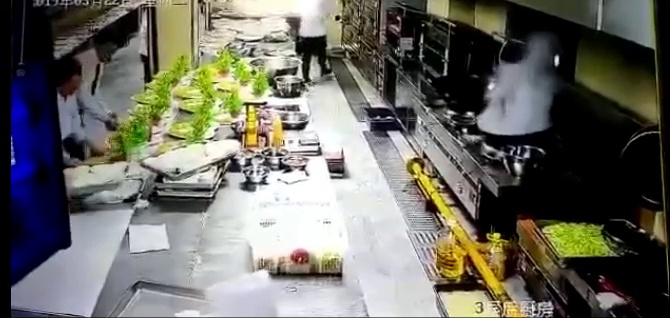smoke: (483, 40, 561, 134)
